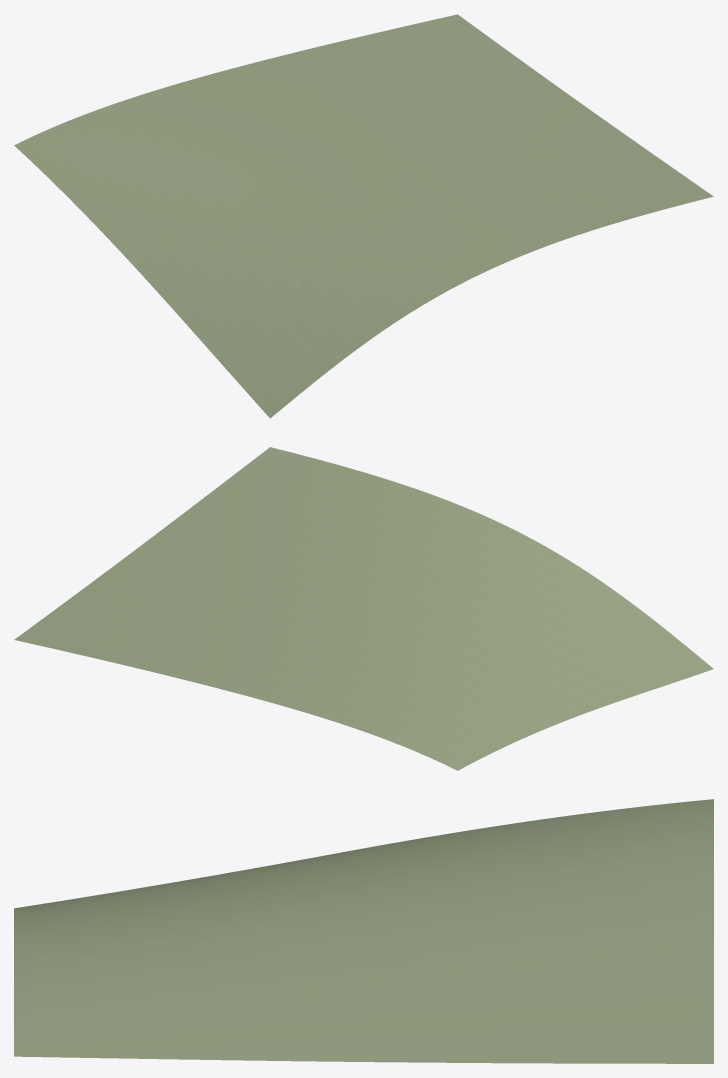
The model's file is expanse-13-22.glb.
3 views of the same model, one above another, from view 1: azimuth 30°, elevation 25°; view 2: azimuth 150°, elevation 25°; view 3: azimuth 270°, elevation 25° (orthographic). The views are drawn at different scales.
Parts seen in each view (by area): view 1: expanse-13-22; view 2: expanse-13-22; view 3: expanse-13-22.
Part boxes in pixels (box(x1,y1,x2,y2)): expanse-13-22: box(14, 14, 713, 418); expanse-13-22: box(14, 447, 713, 770); expanse-13-22: box(14, 799, 713, 1063).
Size of the model in its own units: 256 by 62.65 by 256.
